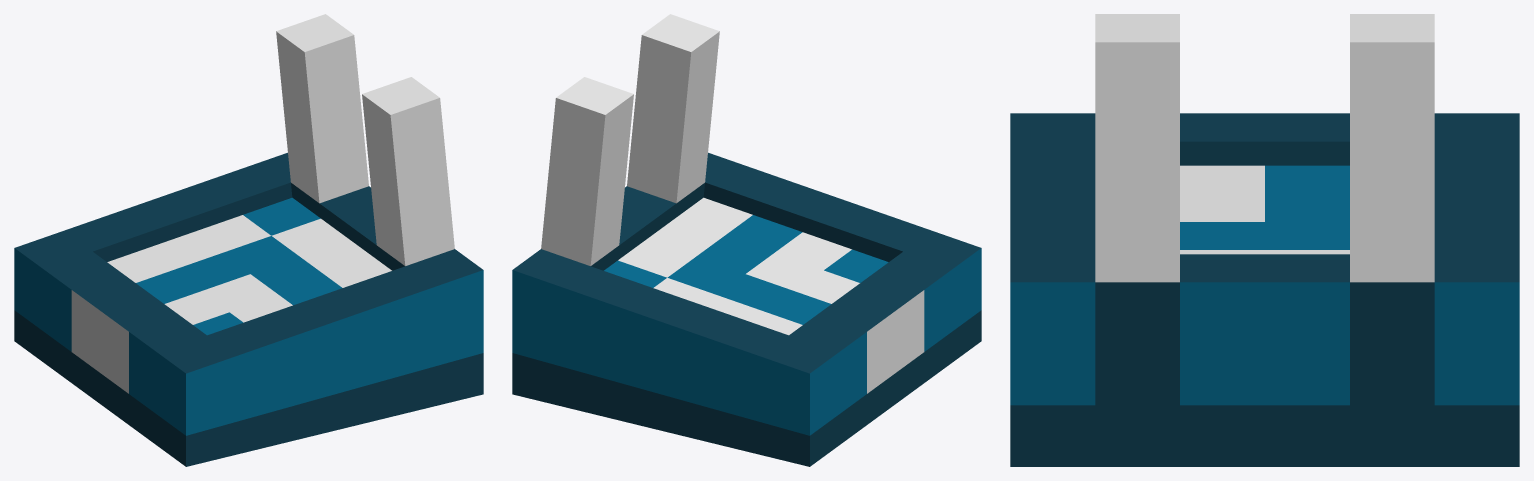
Rendered from G01_010_WIFI.fbx.
The picture shows the model from 3 angles, left to right: view 1: azimuth 30°, elevation 25°; view 2: azimuth 150°, elevation 25°; view 3: azimuth 270°, elevation 25°; orthographic projection. The views are drawn at different scales.
Parts seen in each view (by area): view 1: 008_WIFI_B; view 2: 008_WIFI_B; view 3: 008_WIFI_B.
Boxes of the visible parts, x1=… form: 008_WIFI_B: x1=14, y1=14, x2=483, y2=466; 008_WIFI_B: x1=512, y1=14, x2=981, y2=466; 008_WIFI_B: x1=1010, y1=14, x2=1519, y2=466.
Size of the model in its own units: 50 by 44.88 by 50.
